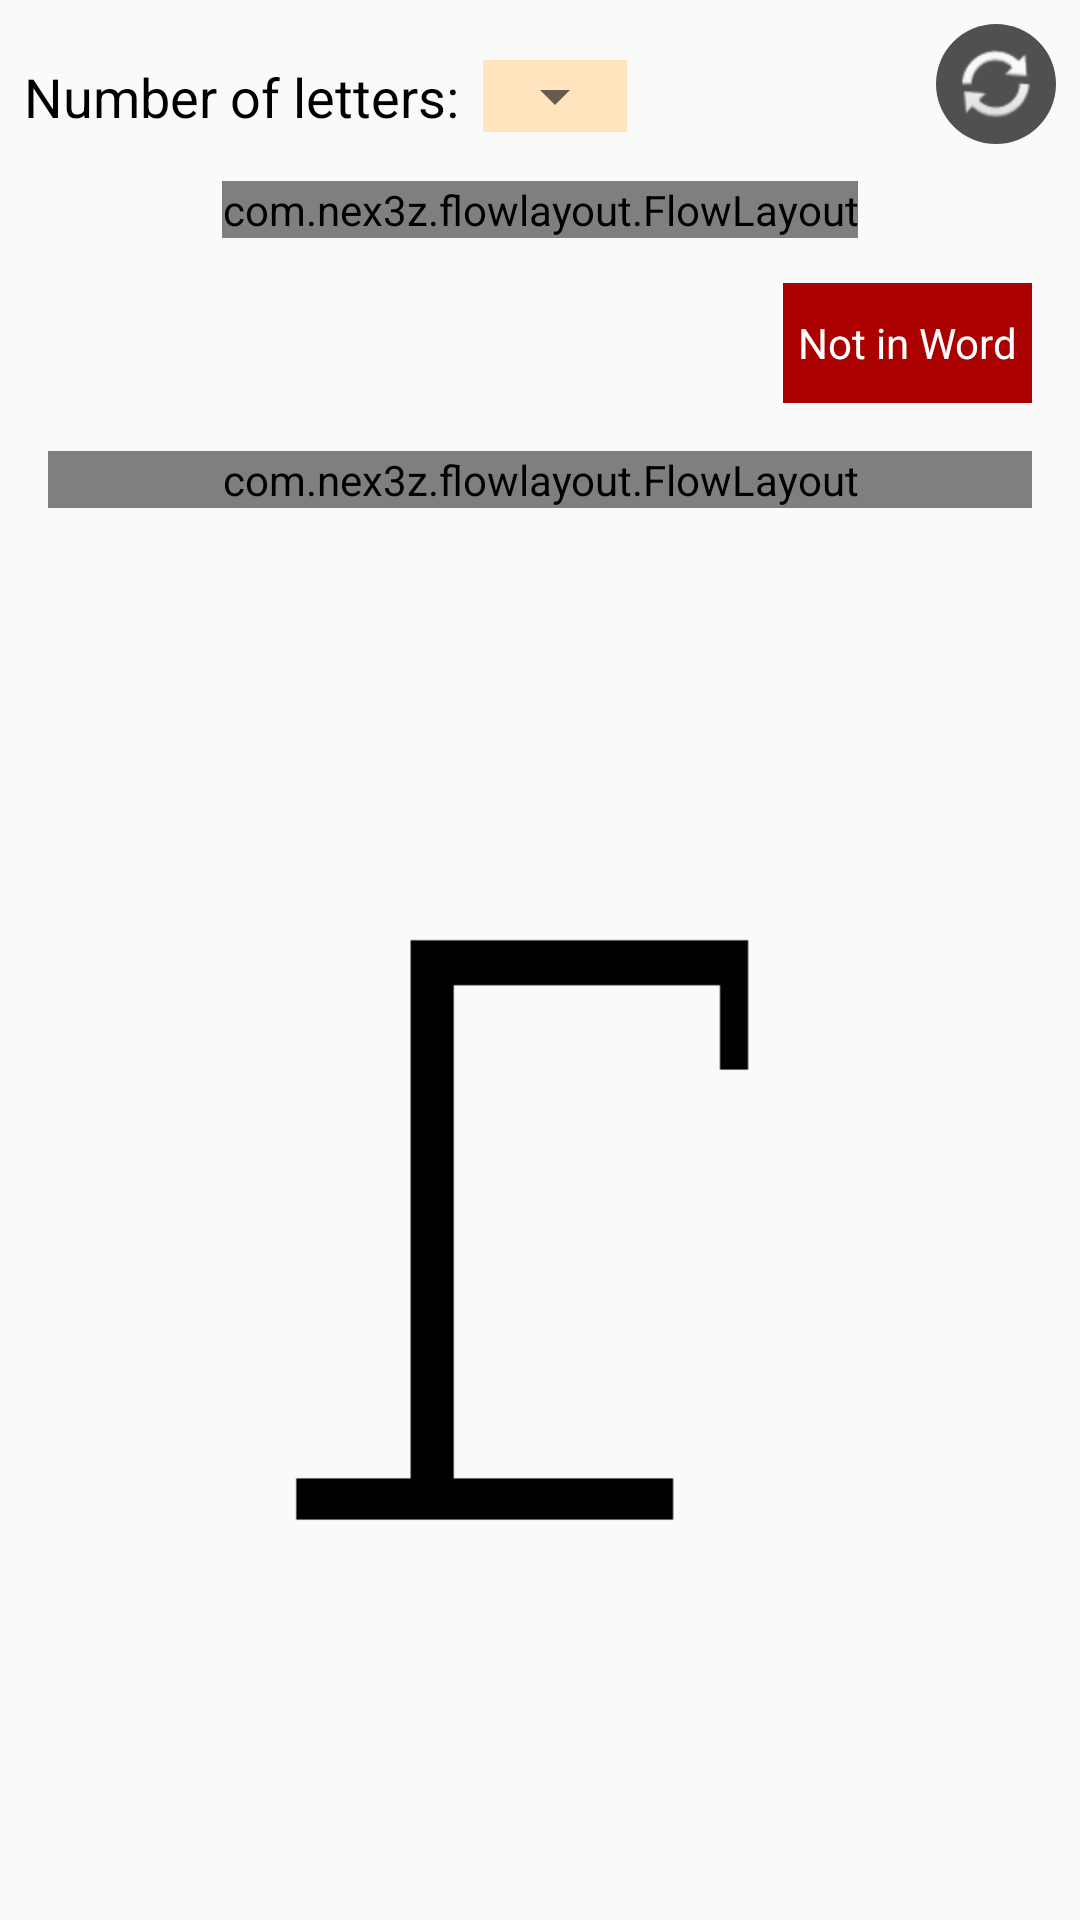

Icons on this 1080px×1920px Android screen, each with the point to tap as [x,y]:
popup sync: [996,84]
